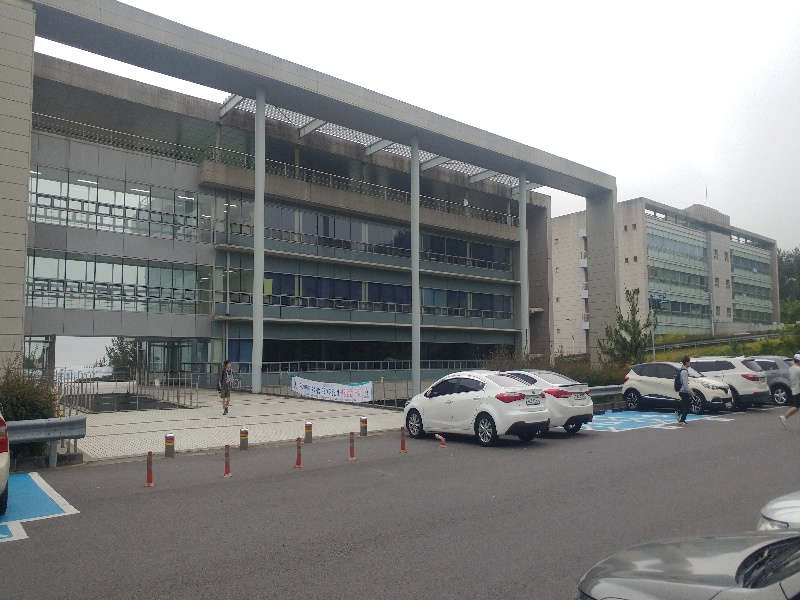College of Marine Science: (554, 200, 778, 336), (620, 203, 780, 333)
Engineering College Building 4: (1, 33, 546, 363)
